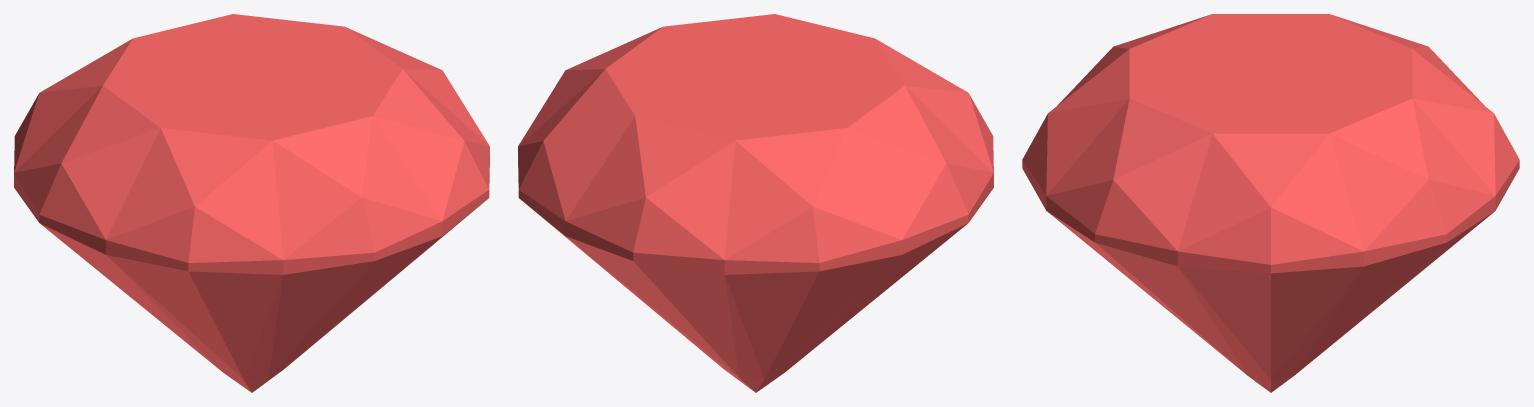
File: core_in.obj
3 views of the same model, side by side, from view 1: azimuth 30°, elevation 25°; view 2: azimuth 150°, elevation 25°; view 3: azimuth 270°, elevation 25° (orthographic).
Visible parts, largest first — view 1: 球_球.001; view 2: 球_球.001; view 3: 球_球.001.
Part boxes in pixels (left/top/right/bottom): 球_球.001: left=14, top=14, right=489, bottom=392; 球_球.001: left=518, top=14, right=993, bottom=392; 球_球.001: left=1022, top=14, right=1519, bottom=392.
Size of the model in its own units: 1.1 by 0.78 by 1.1.
1 material, 1 textured.
